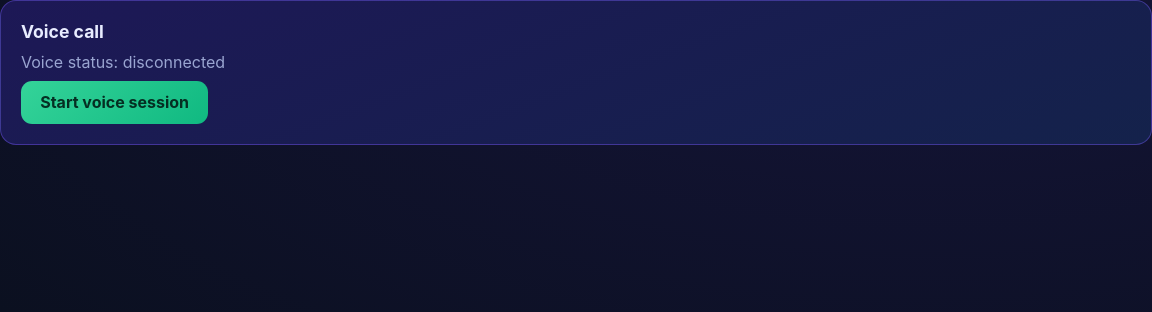
Test: VoiceSession › shows an alert and does not report an outcome when session start fails
The width and height of the screenshot is (1152, 312).
Click the button "Start voice session" at (115, 102), box [21,81,208,124]
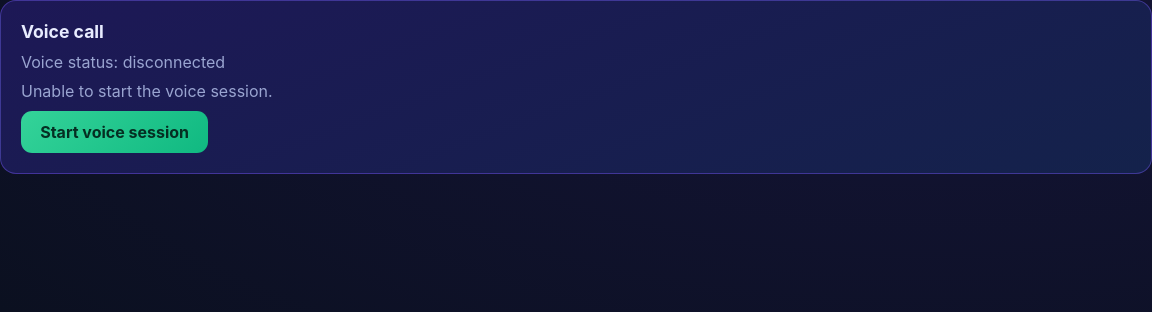
Now the message shows "Unable to start the voice session", box [21,81,273,101]
